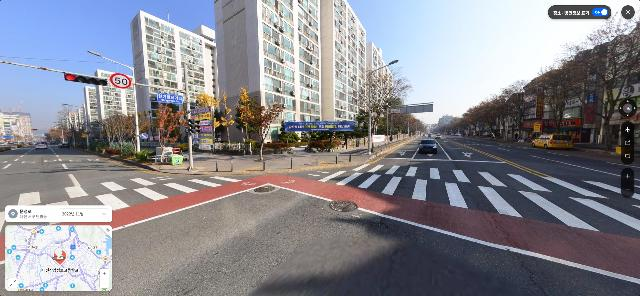ginkgo: (234, 87, 259, 152), (195, 91, 221, 144), (220, 96, 236, 152)
other: (551, 16, 639, 148), (342, 51, 416, 153), (531, 51, 586, 134), (484, 81, 536, 144), (237, 95, 281, 162), (120, 84, 160, 154), (148, 105, 190, 160), (55, 104, 86, 151), (115, 107, 143, 149), (375, 100, 403, 142), (268, 109, 294, 147)
